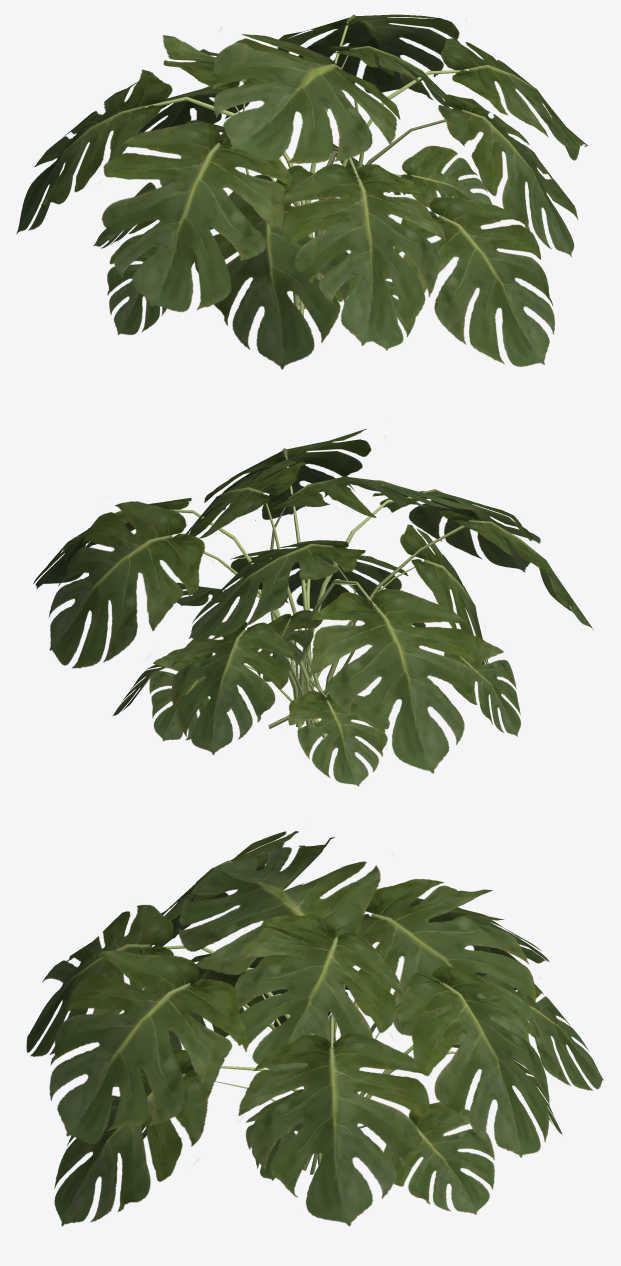
The model's file is tropical.glb.
3 renders of one model, top to bottom at view 1: azimuth 30°, elevation 25°; view 2: azimuth 150°, elevation 25°; view 3: azimuth 270°, elevation 25°, orthographic. The views are drawn at different scales.
Visible parts, largest first — view 1: leaves_tropical_plant_0, trunk_tropical_plant_0; view 2: leaves_tropical_plant_0, trunk_tropical_plant_0; view 3: leaves_tropical_plant_0, trunk_tropical_plant_0.
Boxes of the visible parts, bbox=[...] form: leaves_tropical_plant_0: bbox=[16, 14, 587, 369]; trunk_tropical_plant_0: bbox=[145, 22, 469, 317]; leaves_tropical_plant_0: bbox=[33, 429, 593, 786]; trunk_tropical_plant_0: bbox=[170, 455, 465, 738]; leaves_tropical_plant_0: bbox=[26, 831, 603, 1226]; trunk_tropical_plant_0: bbox=[163, 937, 455, 1174].
Size of the model in its own units: 193 by 99.01 by 170.
Materials: 1 (1 with a texture image).
